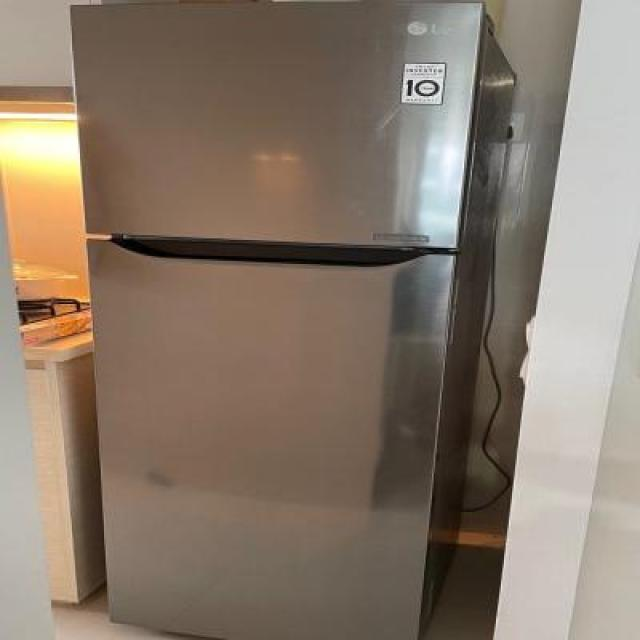refrigerator: (78, 4, 476, 638)
